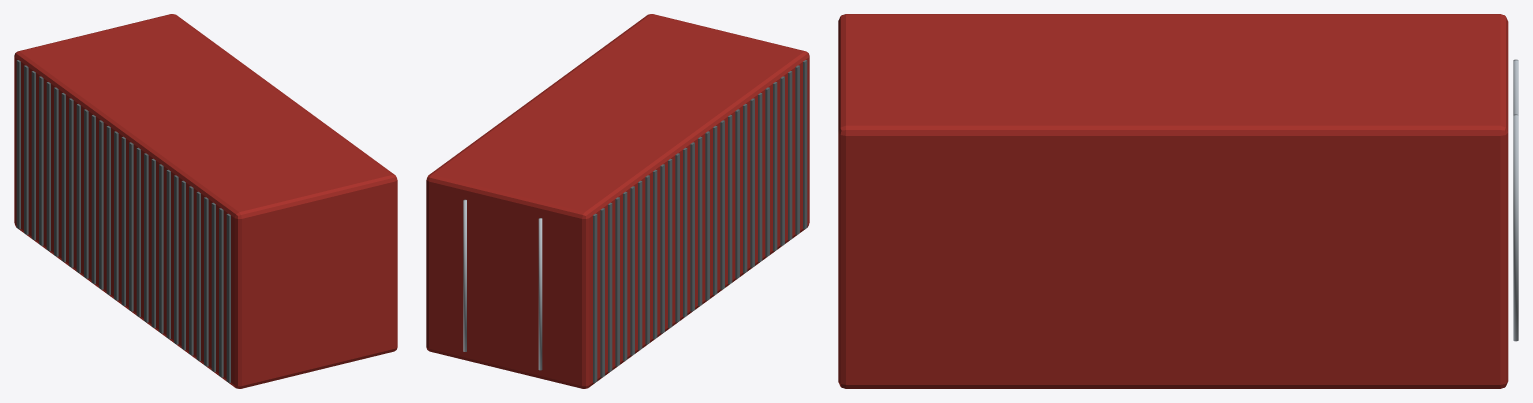
Rendered from mc_container.glb.
The picture shows the model from 3 angles, left to right: view 1: azimuth 30°, elevation 25°; view 2: azimuth 150°, elevation 25°; view 3: azimuth 270°, elevation 25°; orthographic projection. The views are drawn at different scales.
Visible parts, largest first — view 1: mc_container__Geometry; view 2: mc_container__Geometry; view 3: mc_container__Geometry.
Part boxes in pixels (box(x1,y1,x2,y2)): mc_container__Geometry: box(14, 14, 397, 388); mc_container__Geometry: box(426, 14, 809, 388); mc_container__Geometry: box(838, 14, 1518, 388).
Size of the model in its own units: 2.53 by 2.6 by 6.1.
